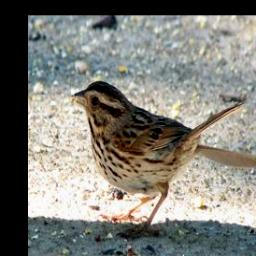Sparrow: (69, 78, 256, 241)
